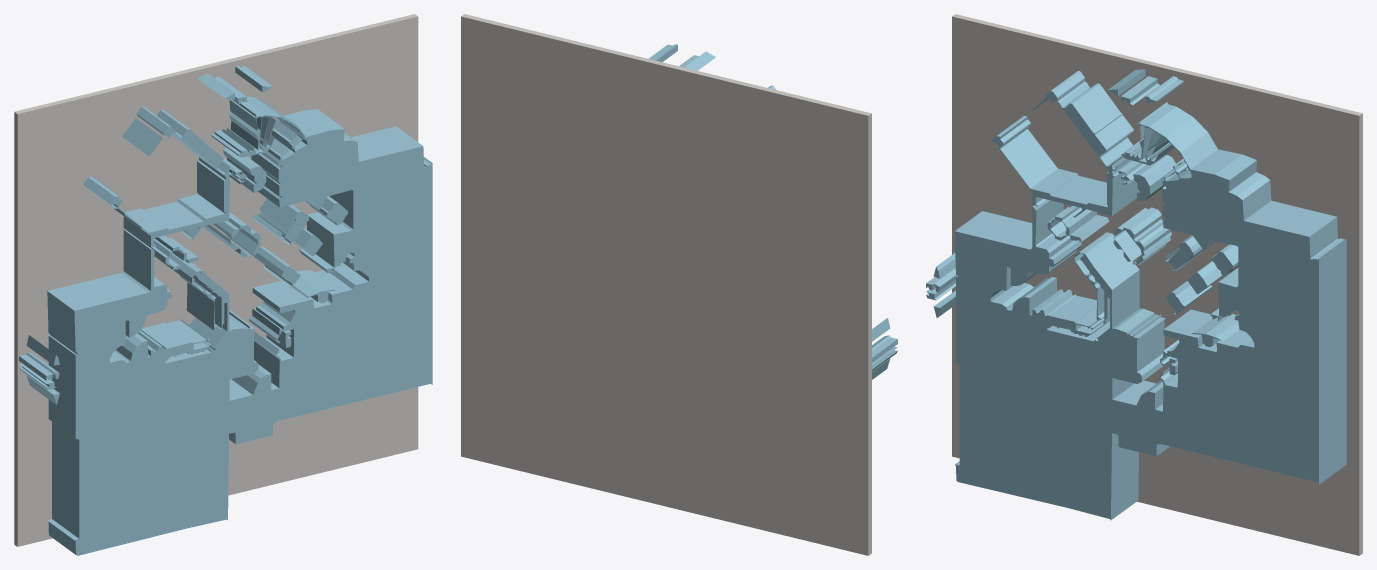
3 renders of one model, left to right at view 1: azimuth 30°, elevation 25°; view 2: azimuth 150°, elevation 25°; view 3: azimuth 330°, elevation 25°, orthographic.
Parts seen in each view (by area): view 1: world; view 2: world; view 3: world.
Part boxes in pixels (left/top/right/bottom): world: left=14, top=14, right=432, bottom=555; world: left=461, top=14, right=897, bottom=555; world: left=926, top=14, right=1362, bottom=555.
Bounding box in the file's own units: 10.23 × 10.56 × 1.35.
